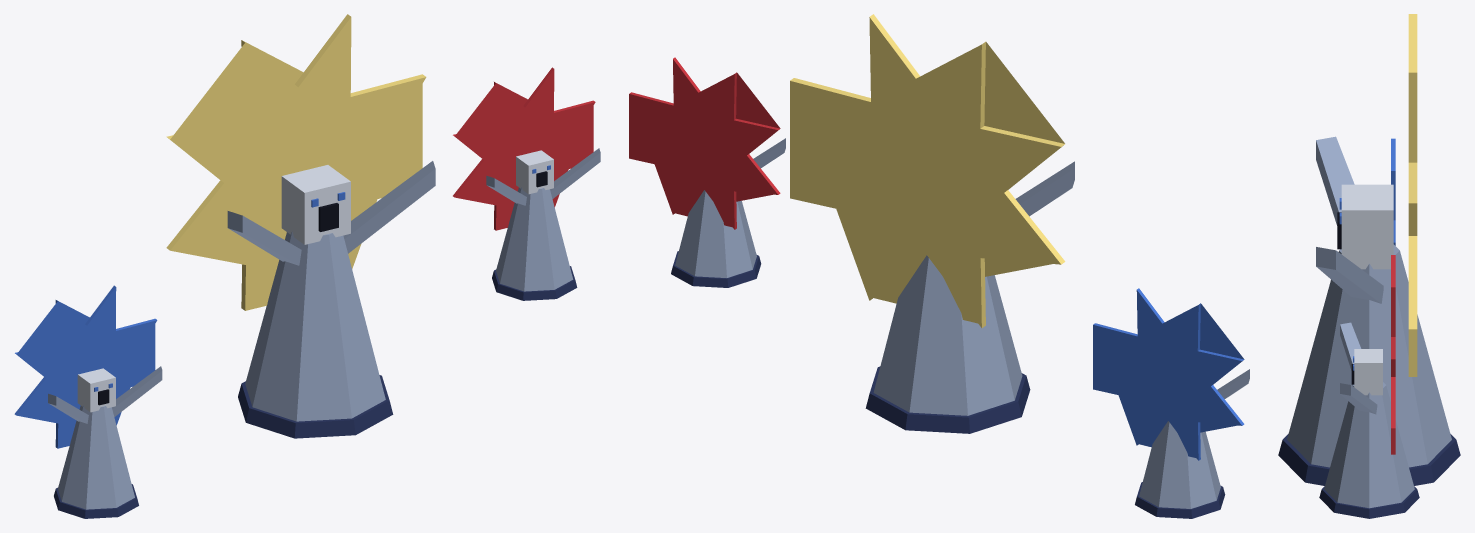
The model's file is StarChoirEcho.glb.
3 renders of one model, left to right at view 1: azimuth 30°, elevation 25°; view 2: azimuth 150°, elevation 25°; view 3: azimuth 270°, elevation 25°, orthographic. The views are drawn at different scales.
Visible parts, largest first — view 1: StarChoirEcho; view 2: StarChoirEcho; view 3: StarChoirEcho.
Part boxes in pixels (x1,y1,x2,y2): StarChoirEcho: (14,14,600,518); StarChoirEcho: (629,14,1249,518); StarChoirEcho: (1278,14,1460,518).
Bounding box in the file's own units: 8.72 × 5.83 × 2.1.
1 material, 1 textured.
